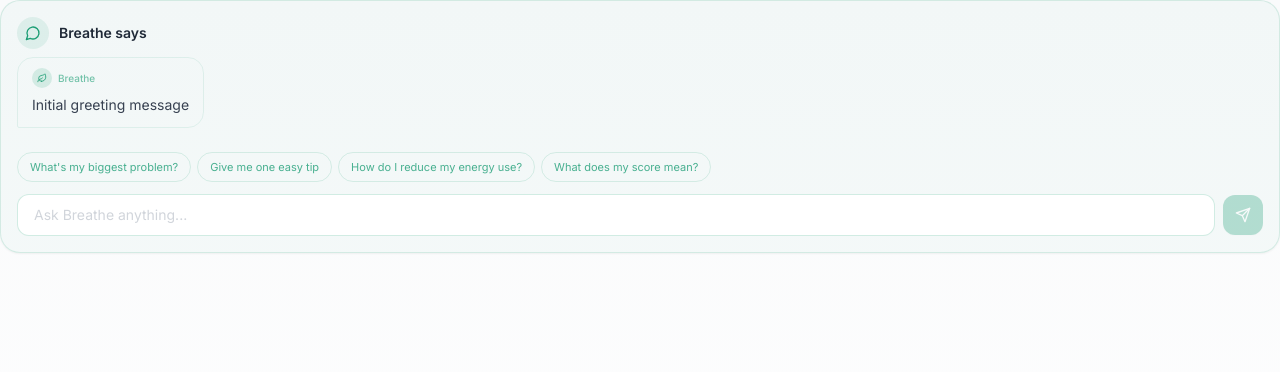
it: ChatBot Component › sends user message via form submit and gets API response
Expected: the text "Initial greeting message" is shown, [32,94,189,117]
Type "How can I save CO2?" into the field with placeholder "Ask Breathe anything..." at (616, 215), box [17,194,1215,236]
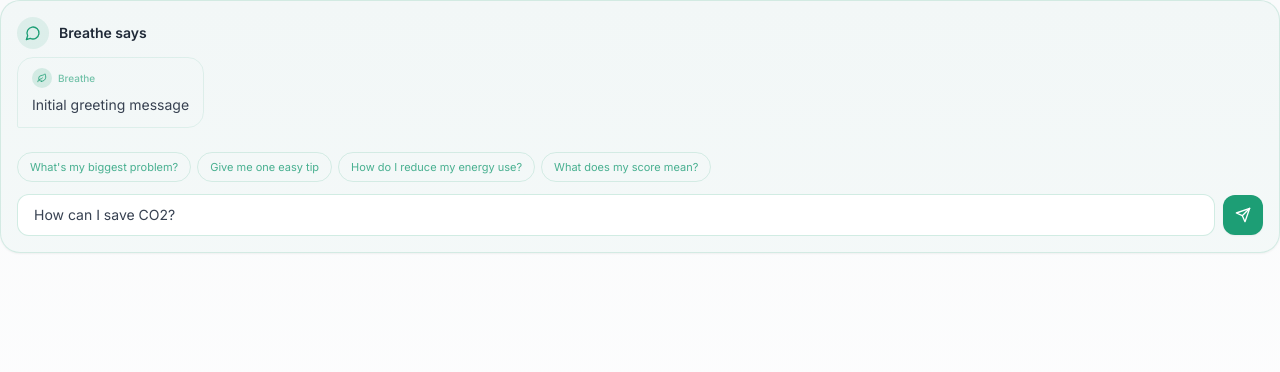
Submit the form with placeholder "Ask Breathe anything", box [17,194,1263,236]
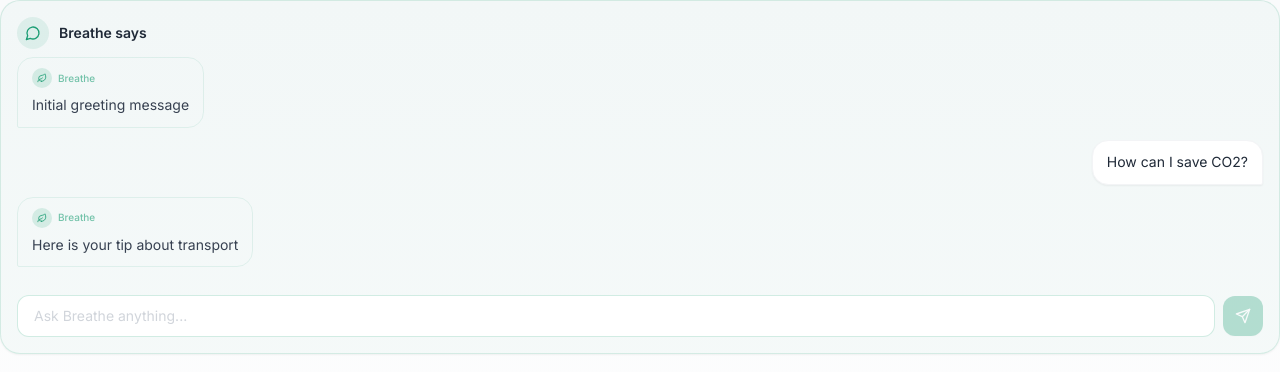
Expected: the text "How can I save CO2?" is shown, [1107,151,1248,174]
Expected: the text "Here is your tip about transport" is shown, [32,234,238,256]
